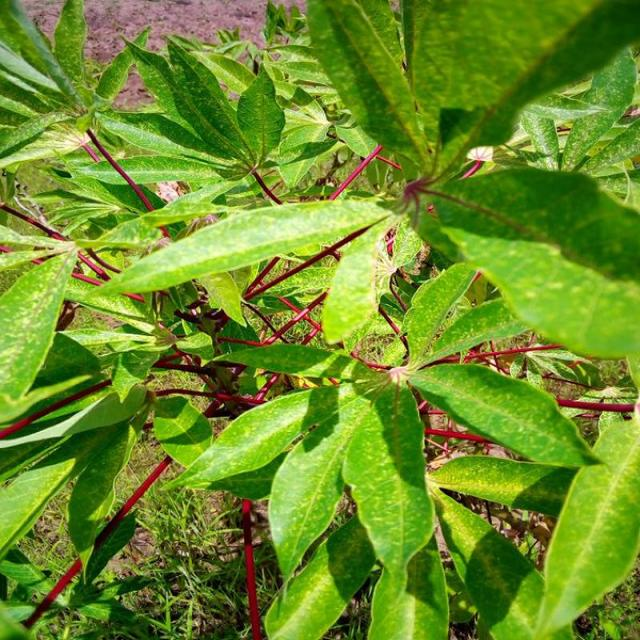cassava leaf: (0, 0, 638, 638), (413, 164, 638, 360), (84, 192, 400, 303)
